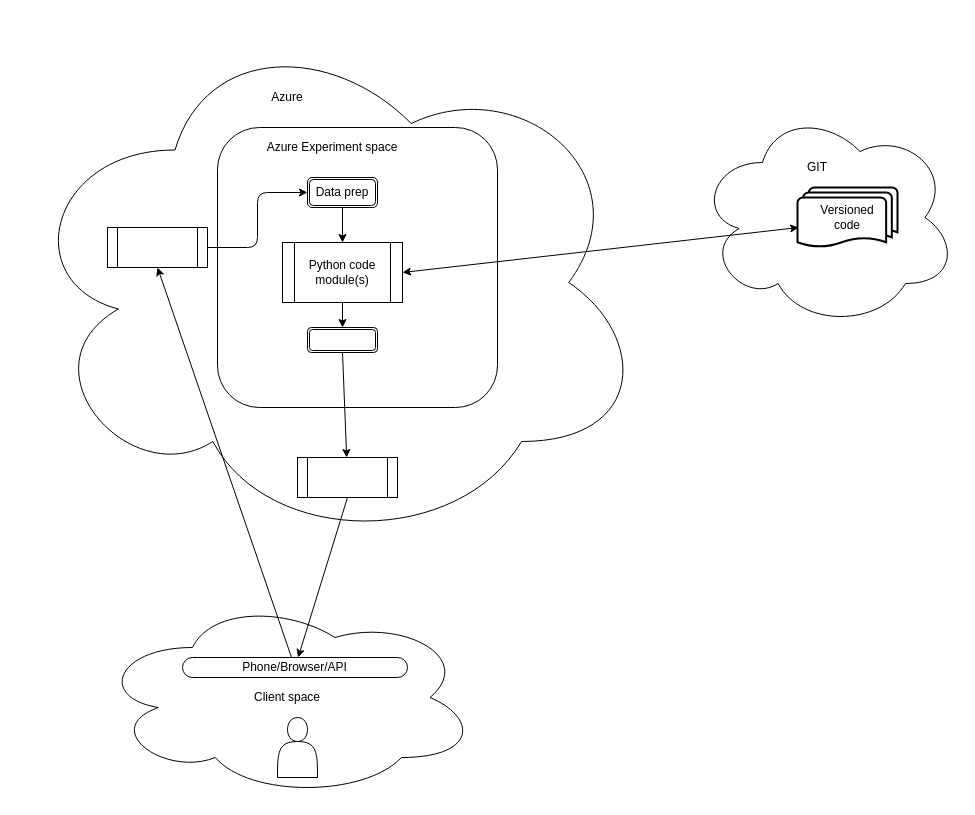
The diagram is 975 pixels wide and 815 high, and some of its shapes have lost their labels. Each missing label, with the box of its shape:
finalize: (306, 326, 378, 352)
Web Service Request: (106, 226, 208, 268)
Web Service Response: (296, 456, 398, 498)
